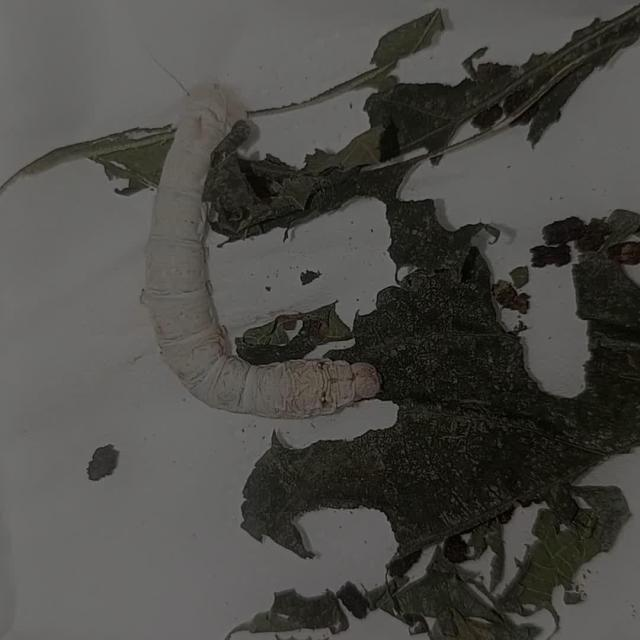Healthy: (133, 76, 386, 421)
